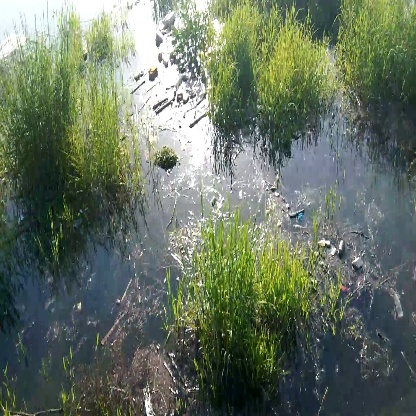grass: (189, 238, 300, 385)
